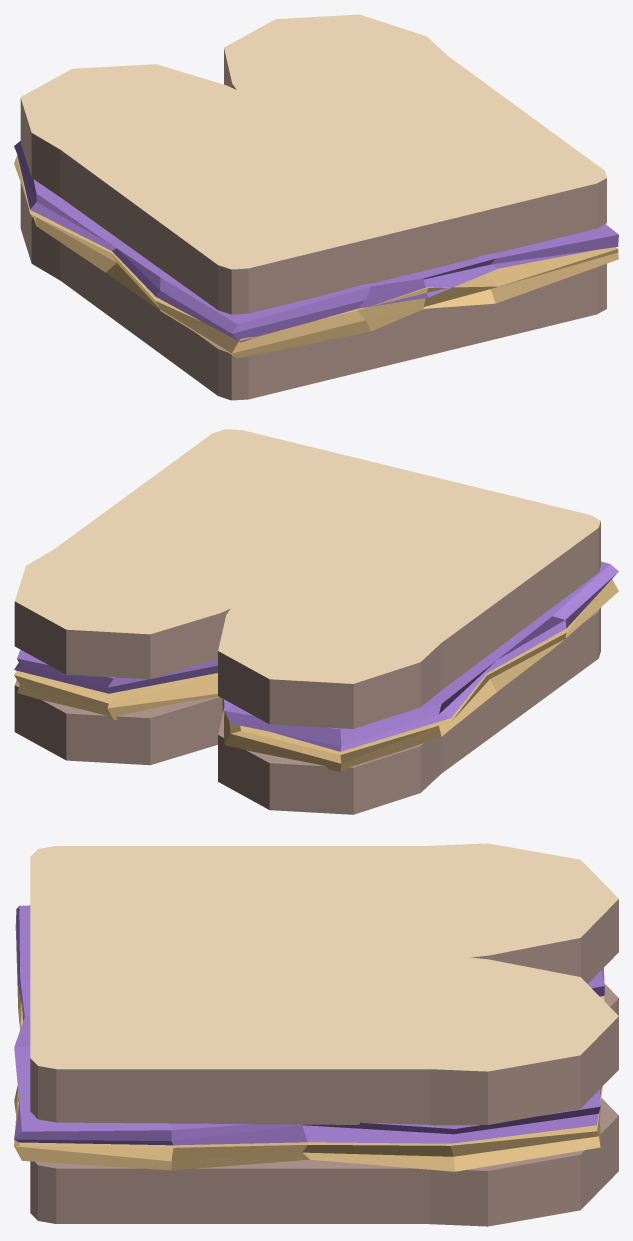
Rendered from Peanut_Butter___Jelly_Sandwich_01.gltf.
The picture shows the model from 3 angles, top to bottom: view 1: azimuth 30°, elevation 25°; view 2: azimuth 150°, elevation 25°; view 3: azimuth 270°, elevation 25°; orthographic projection. The views are drawn at different scales.
Parts seen in each view (by area): view 1: node-0; view 2: node-0; view 3: node-0.
Boxes of the visible parts, x1=… form: node-0: x1=14, y1=14, x2=618, y2=400; node-0: x1=14, y1=429, x2=618, y2=814; node-0: x1=14, y1=843, x2=618, y2=1226.
Bounding box in the file's own units: 14.43 × 4.37 × 15.45.
